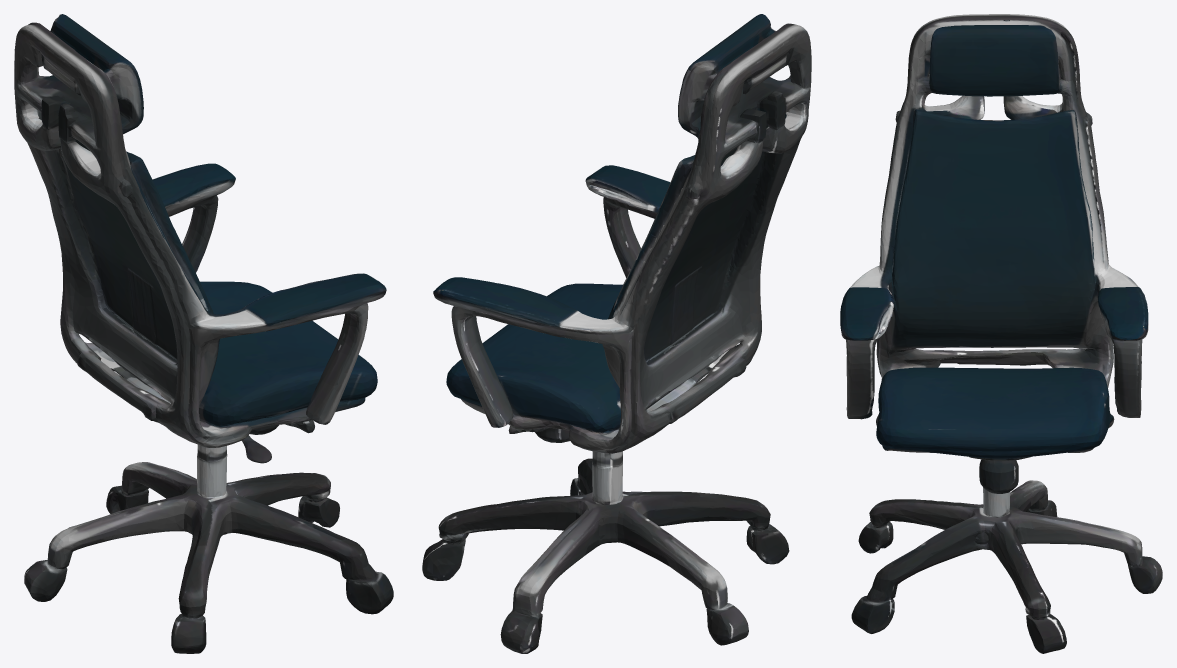
File: office_chair_18.obj
The picture shows the model from 3 angles, left to right: view 1: azimuth 30°, elevation 25°; view 2: azimuth 150°, elevation 25°; view 3: azimuth 270°, elevation 25°; orthographic projection. The views are drawn at different scales.
Bounding box in the file's own units: 0.6934 × 1.2 × 0.69.
Materials: 1 (1 with a texture image).
